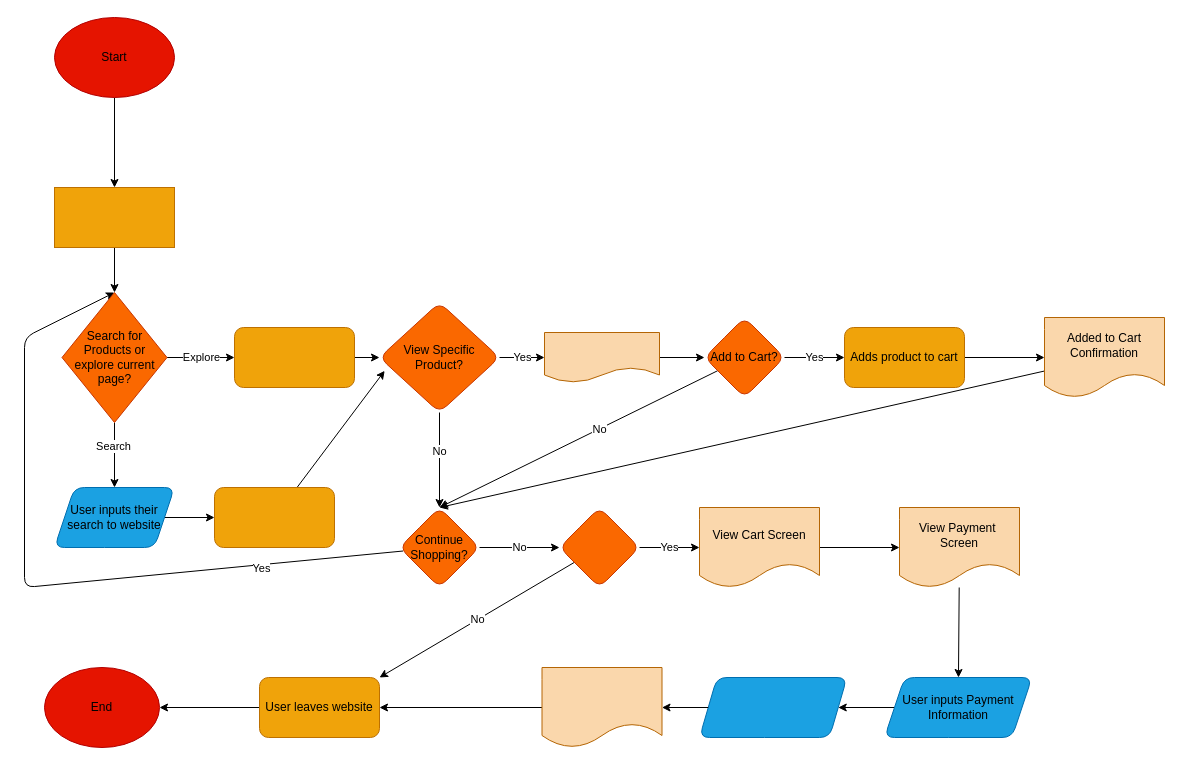
The diagram is 1182 pixels wide and 765 high, and some of its shapes have lost their labels. The shapes that lost their labels are listed below. From the top down, each one's centre as x and y in pixels, then its label:
the point at 114,217: User enters the website to the home page
the point at 294,357: Show user products on current page
the point at 602,357: Product webpage opens
the point at 274,517: Show user products that match their search
the point at 599,547: Checkout?
the point at 601,707: Order Confirmation Screen
the point at 772,707: Send Confirmation Email (output)
